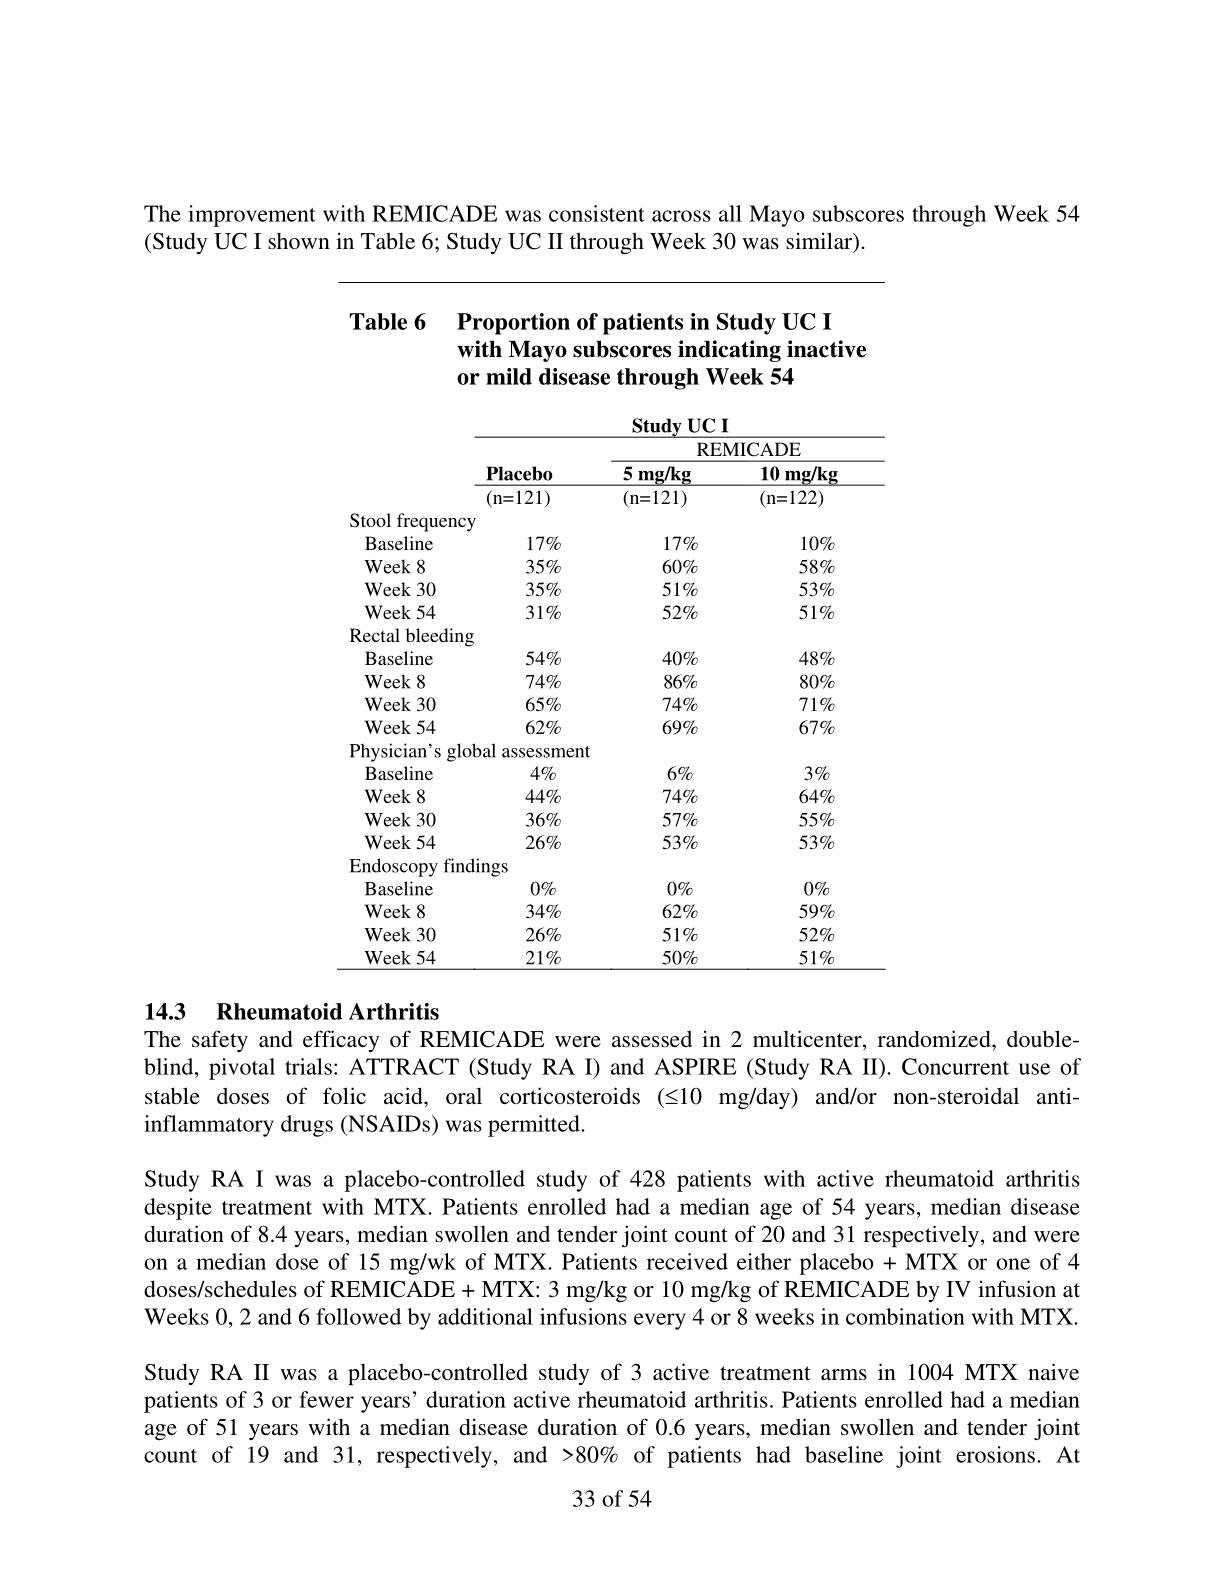partial_lined_merged_cells: (337, 413, 888, 972)
